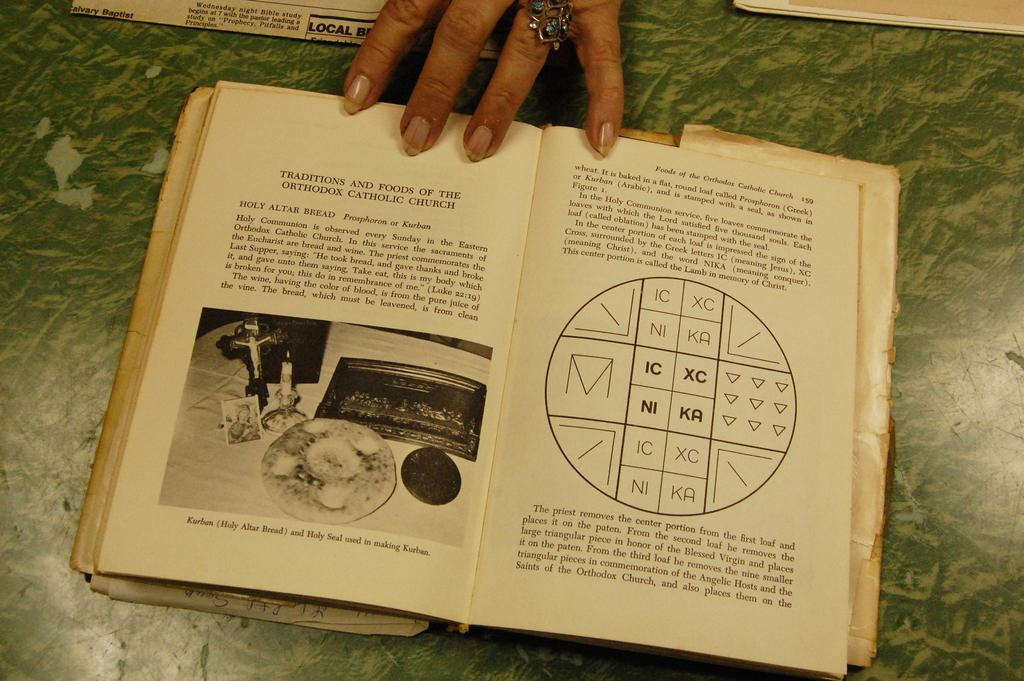book: (45, 82, 911, 666)
